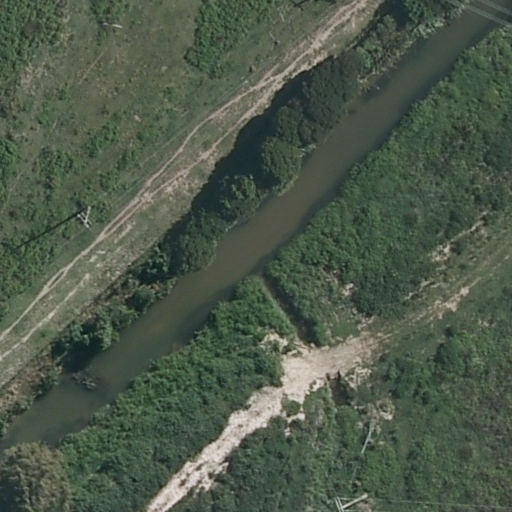DT: (76, 205, 94, 230)
